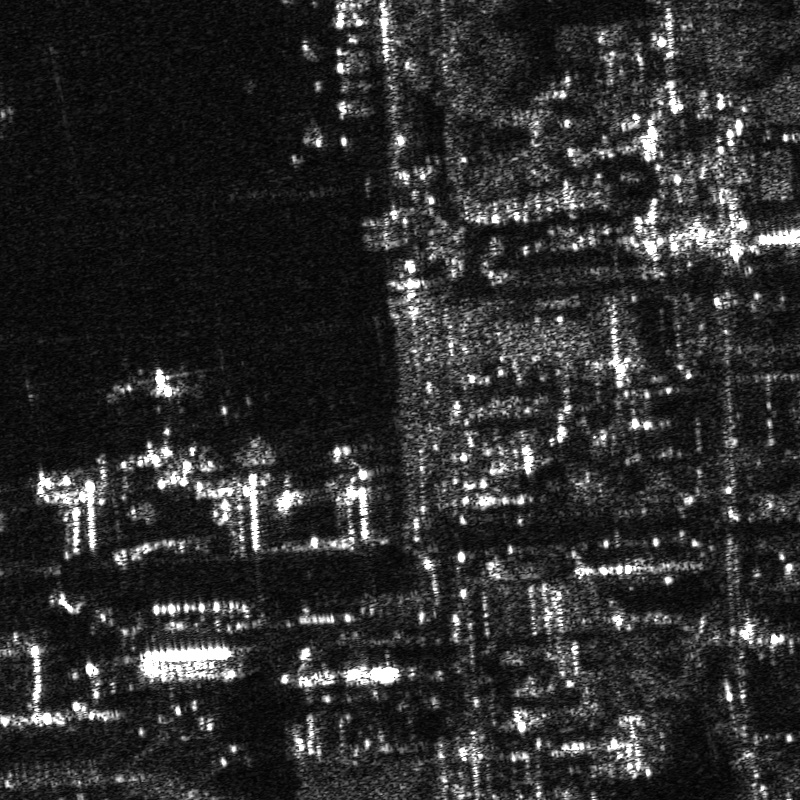Boeing787: (127, 364, 197, 418)
